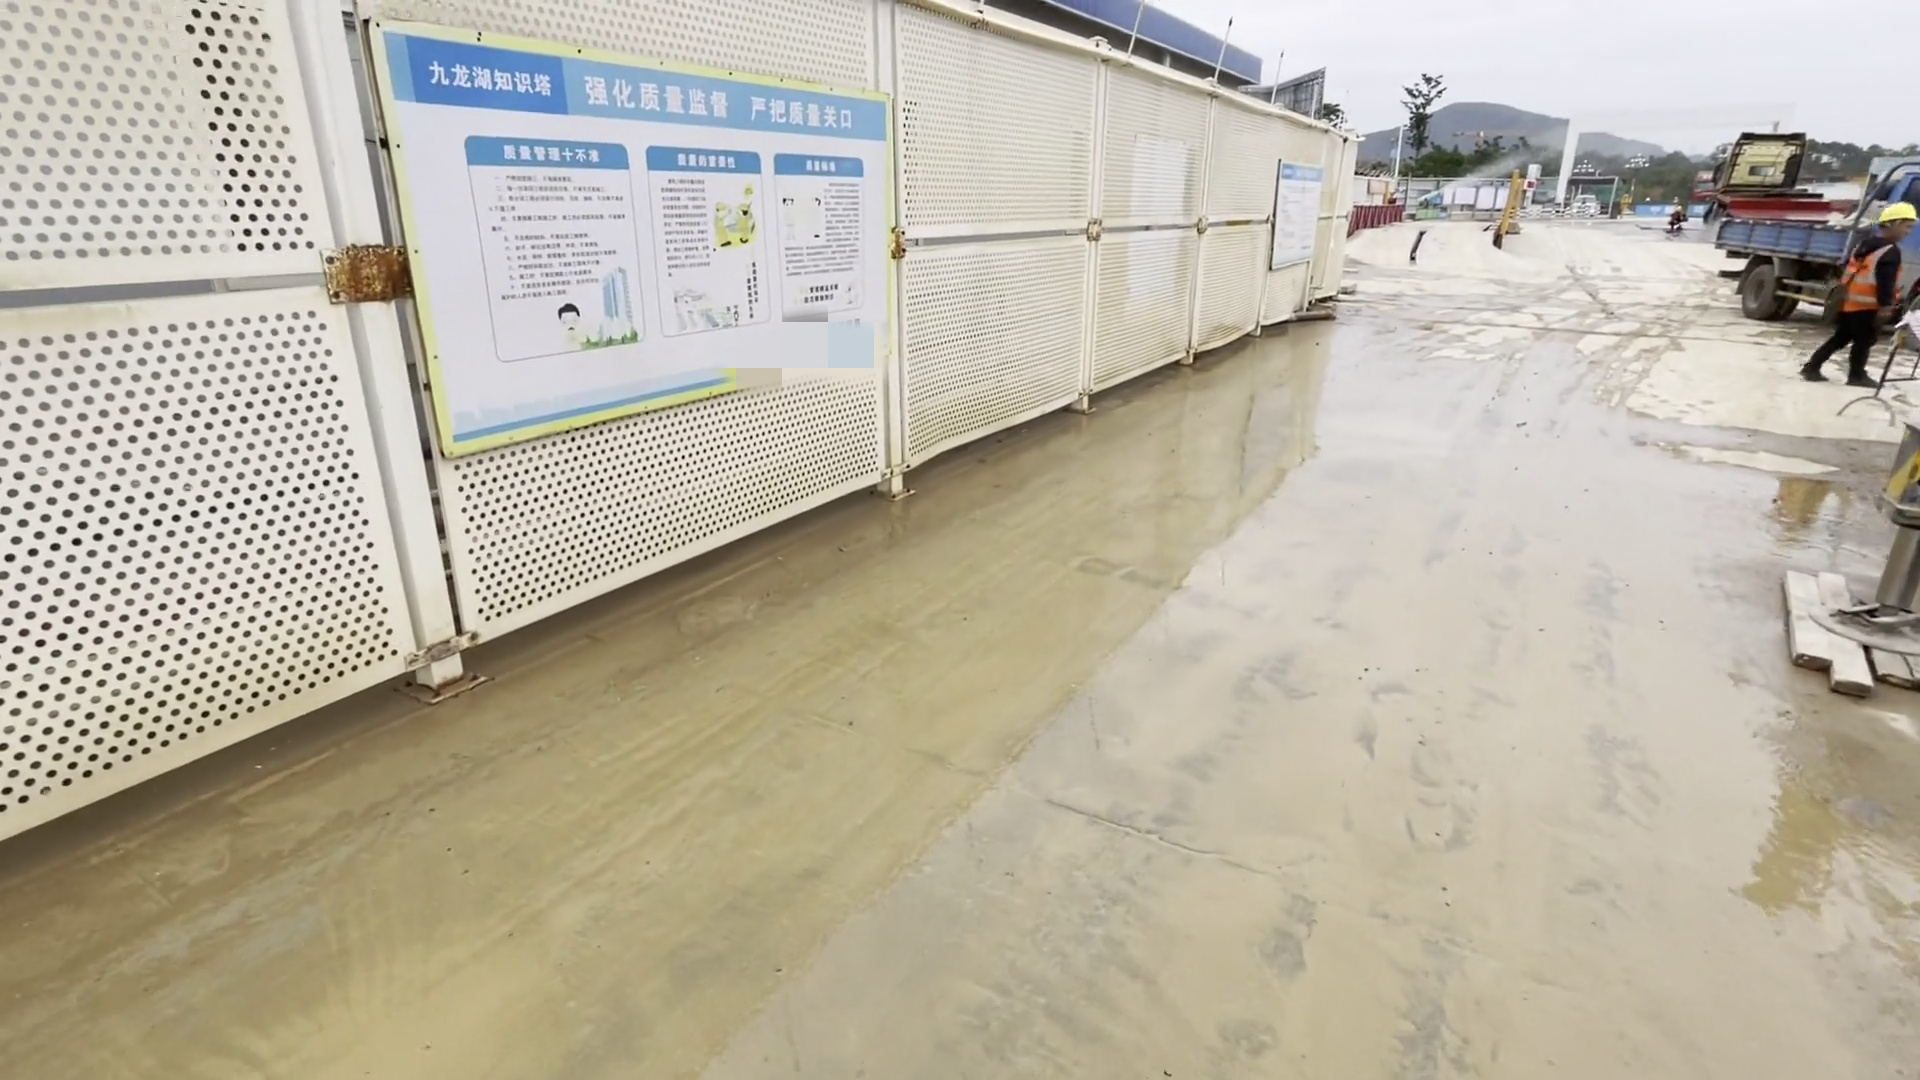slogan: (369, 22, 906, 429)
